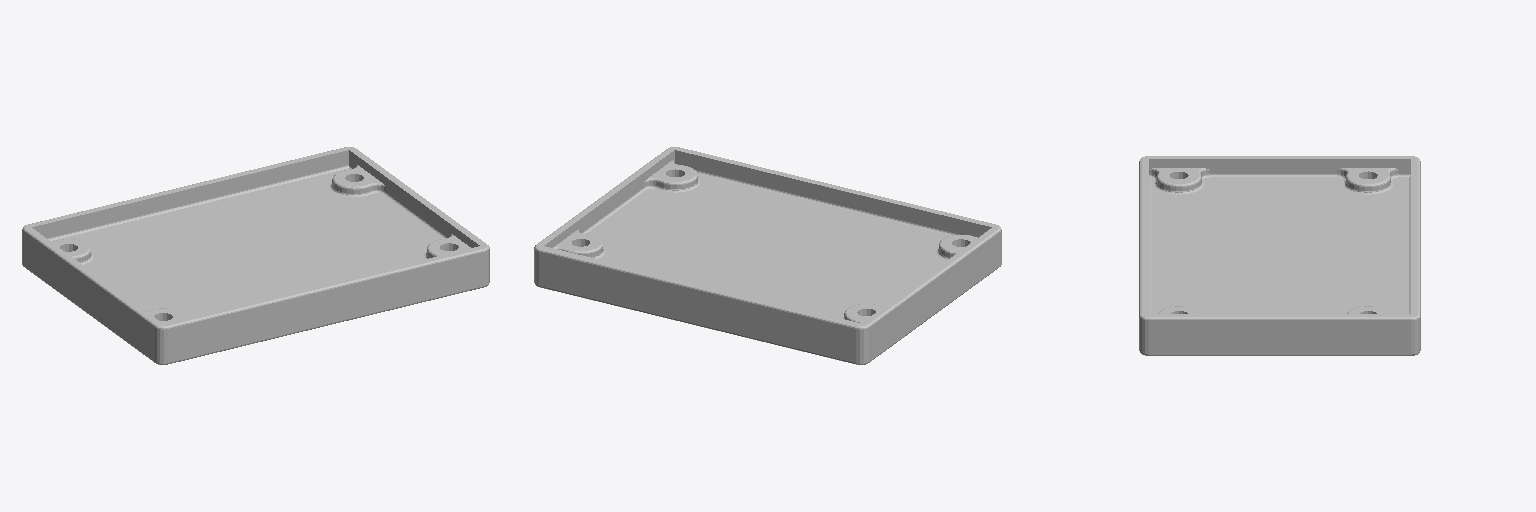
The model's file is vma400_isolator.obj.
3 views of the same model, side by side, from view 1: azimuth 30°, elevation 25°; view 2: azimuth 150°, elevation 25°; view 3: azimuth 270°, elevation 25° (orthographic).
Parts seen in each view (by area): view 1: Solid1; view 2: Solid1; view 3: Solid1.
Boxes of the visible parts, <box> form: Solid1: <box>22,147,489,364</box>; Solid1: <box>534,147,1001,364</box>; Solid1: <box>1139,156,1420,355</box>.
Size of the model in its own units: 81.5 by 9 by 59.5.